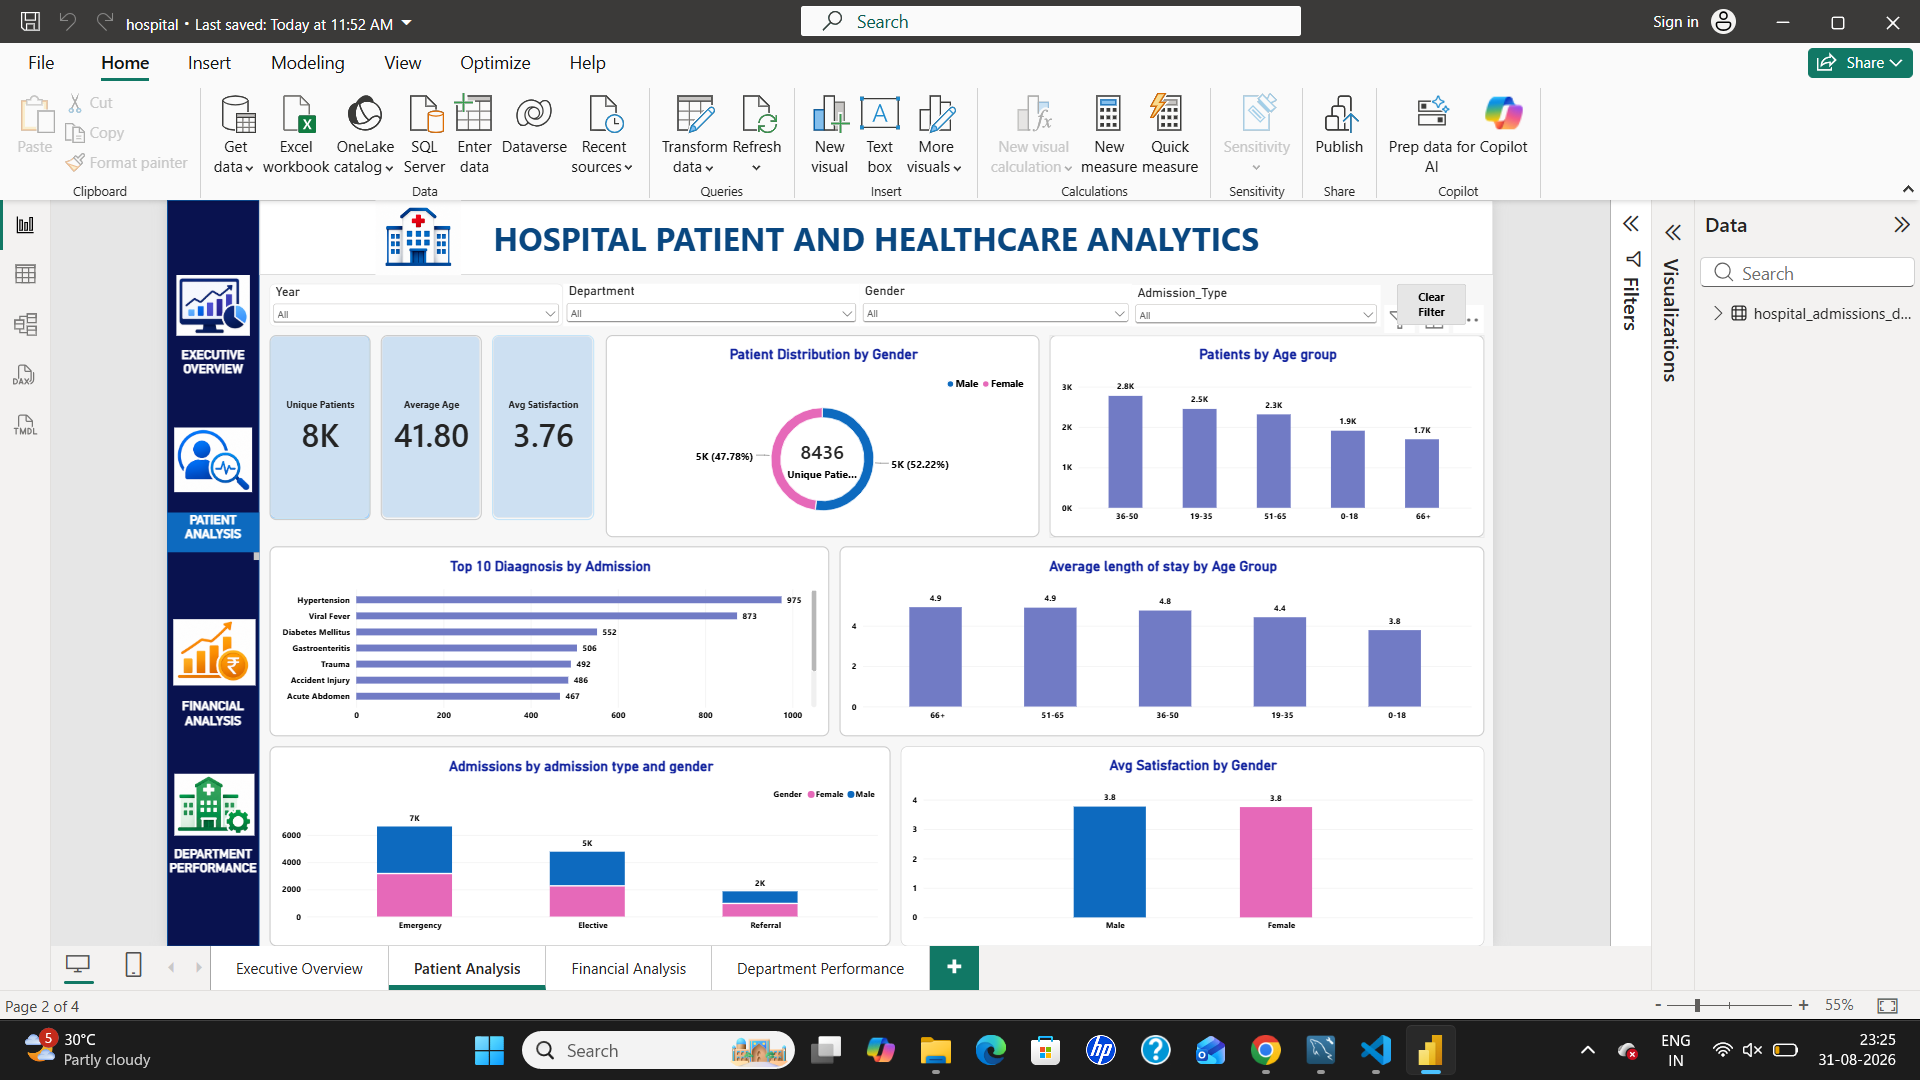

Layout of this report page (visuals, bound fields, positions):
{"tool":"powerbi","page":{"name":"Patient Analysis","canvas":[1920,1080],"ordinal":1},"visuals":[{"type":"shape","box":[0,0,133.8,1080.6],"z":0},{"type":"shape","box":[133.9,0,1786.1,108.6],"z":1000},{"type":"slicer","fields":{"Values":["hospital_admissions_data.admission_date.Variation.Date Hierarchy.Year"]},"box":[148.1,121.2,425,61.5],"z":2000},{"type":"slicer","fields":{"Values":["hospital_admissions_data.department"]},"box":[573.1,121.2,428.8,61.5],"z":3000},{"type":"slicer","fields":{"Values":["hospital_admissions_data.gender"]},"box":[1001.9,121.2,394.2,61.5],"z":4000},{"type":"slicer","fields":{"Values":["hospital_admissions_data.admission_type"]},"box":[1396.2,123.1,359.6,59.6],"z":5000},{"type":"cardVisual","fields":{"Data":["hospital_admissions_data.Unique Patients"]},"box":[148.4,195.4,146.6,267.8],"z":6000},{"type":"cardVisual","fields":{"Data":["hospital_admissions_data.Average Age"]},"box":[309.5,195.4,146.6,267.8],"z":7000},{"type":"cardVisual","fields":{"Data":["hospital_admissions_data.Avg Satisfaction"]},"box":[470.5,195.4,148.4,267.8],"z":8000},{"type":"donutChart","title":"Patient Distribution by Gender","fields":{"Category":["hospital_admissions_data.gender"],"Y":["hospital_admissions_data.Unique Patients"]},"box":[635.2,195.4,628,293.2],"z":9000},{"type":"clusteredColumnChart","title":"Patients by  Age group","fields":{"Category":["hospital_admissions_data.Age Group"],"Y":["hospital_admissions_data.Unique Patients"]},"box":[1277.6,195.4,629.8,293.2],"z":10000},{"type":"clusteredBarChart","title":"Top 10 Diaagnosis by Admission","fields":{"Category":["hospital_admissions_data.diagnosis"],"Y":["hospital_admissions_data.Total Admission"]},"box":[148.4,501.3,810.7,275.1],"z":11000},{"type":"clusteredColumnChart","title":"Average length of stay by Age Group","fields":{"Y":["hospital_admissions_data.Avg length of stay"],"Category":["hospital_admissions_data.Age Group"]},"box":[973.6,501.3,933.8,275.1],"z":12000},{"type":"columnChart","title":" Admissions by admission type and gender","fields":{"Category":["hospital_admissions_data.admission_type"],"Y":["hospital_admissions_data.Total Admission"],"Series":["hospital_admissions_data.gender"]},"box":[148.4,790.8,899.4,289.5],"z":13000},{"type":"clusteredColumnChart","title":"Avg Satisfaction by Gender","fields":{"Category":["hospital_admissions_data.gender"],"Y":["hospital_admissions_data.Avg Satisfaction"]},"box":[1062.3,790.8,845.1,289.5],"z":14000},{"type":"actionButton","box":[1780.8,121.2,100,59.6],"z":15000},{"type":"image","box":[257,0,213.5,108.6],"z":16000},{"type":"textbox","title":"EXECUTIVE OVERVIEW","box":[0,212.9,133.6,56.3],"z":17000},{"type":"textbox","title":"PATIENT ANALYSIS","box":[0,452.9,133.6,68.9],"z":18000},{"type":"textbox","title":"FINANCIAL ANALYSIS","box":[0,722.1,133.6,54.3],"z":19000},{"type":"textbox","title":"DEPARTMENT PERFORMANCE","box":[0,935,133.6,87.7],"z":20000},{"type":"image","box":[0,108.5,133.6,87.7],"z":21000},{"type":"image","box":[0,329.7,133.6,93.9],"z":22000},{"type":"image","box":[8.3,605.2,119,100.2],"z":23000},{"type":"image","box":[8.3,830.6,119,89.7],"z":24000}]}

Visuals, with their boxes on the page's 1920x1080 design canvas (x1, y1, x2, y2). These are canvas units, not pixel positions in the 1920x1080 screenshot, which may show the page scaled, cropped or inside an application window:
shape: <box>0,0,134,1081</box>
shape: <box>134,0,1920,109</box>
slicer - hospital_admissions_data.admission_date.Variation.Date Hierarchy.Year: <box>148,121,573,183</box>
slicer - hospital_admissions_data.department: <box>573,121,1002,183</box>
slicer - hospital_admissions_data.gender: <box>1002,121,1396,183</box>
slicer - hospital_admissions_data.admission_type: <box>1396,123,1756,183</box>
cardVisual - hospital_admissions_data.Unique Patients: <box>148,195,295,463</box>
cardVisual - hospital_admissions_data.Average Age: <box>310,195,456,463</box>
cardVisual - hospital_admissions_data.Avg Satisfaction: <box>470,195,619,463</box>
"Patient Distribution by Gender" donutChart: <box>635,195,1263,489</box>
"Patients by  Age group" clusteredColumnChart: <box>1278,195,1907,489</box>
"Top 10 Diaagnosis by Admission" clusteredBarChart: <box>148,501,959,776</box>
"Average length of stay by Age Group" clusteredColumnChart: <box>974,501,1907,776</box>
" Admissions by admission type and gender" columnChart: <box>148,791,1048,1080</box>
"Avg Satisfaction by Gender" clusteredColumnChart: <box>1062,791,1907,1080</box>
actionButton: <box>1781,121,1881,181</box>
image: <box>257,0,470,109</box>
"EXECUTIVE OVERVIEW" textbox: <box>0,213,134,269</box>
"PATIENT ANALYSIS" textbox: <box>0,453,134,522</box>
"FINANCIAL ANALYSIS" textbox: <box>0,722,134,776</box>
"DEPARTMENT PERFORMANCE" textbox: <box>0,935,134,1023</box>
image: <box>0,108,134,196</box>
image: <box>0,330,134,424</box>
image: <box>8,605,127,705</box>
image: <box>8,831,127,920</box>
